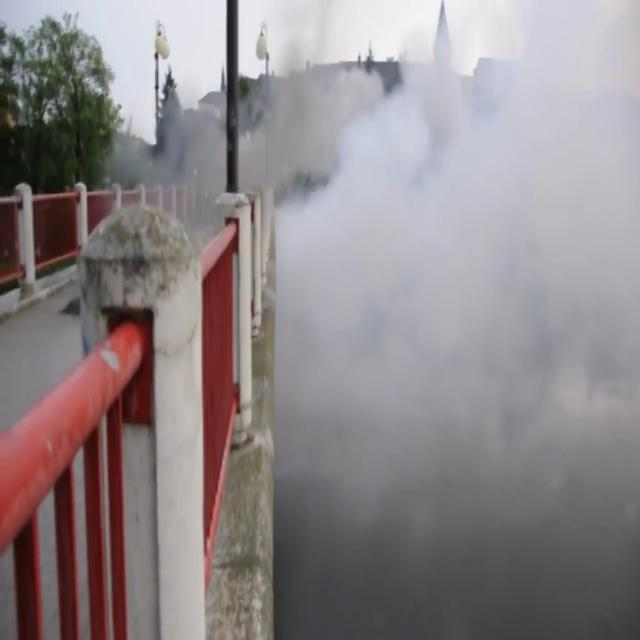Smoke: (269, 0, 640, 603)
